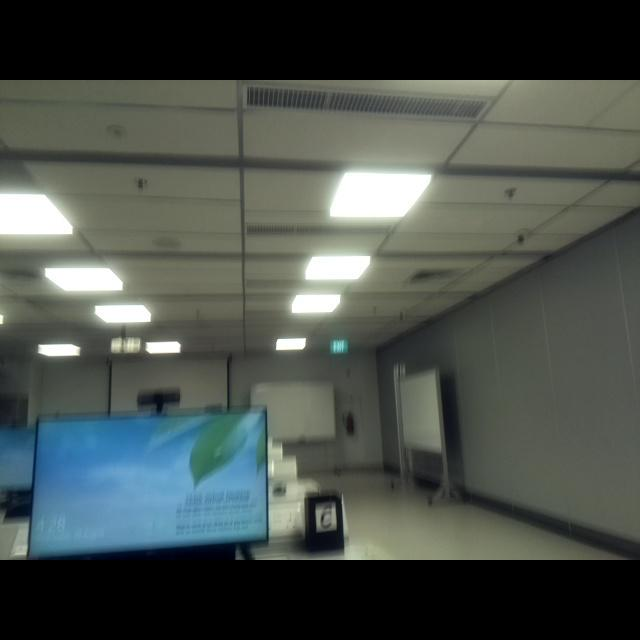C: (320, 503, 332, 529)
